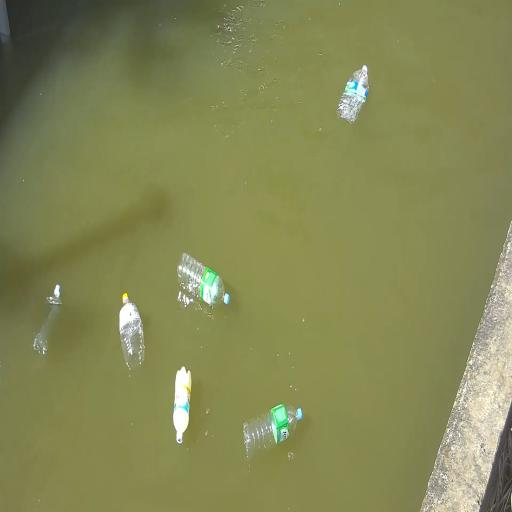plastic: (244, 404, 302, 458), (178, 253, 229, 307), (34, 285, 61, 355), (120, 293, 144, 370), (338, 65, 368, 123), (174, 367, 191, 444)
